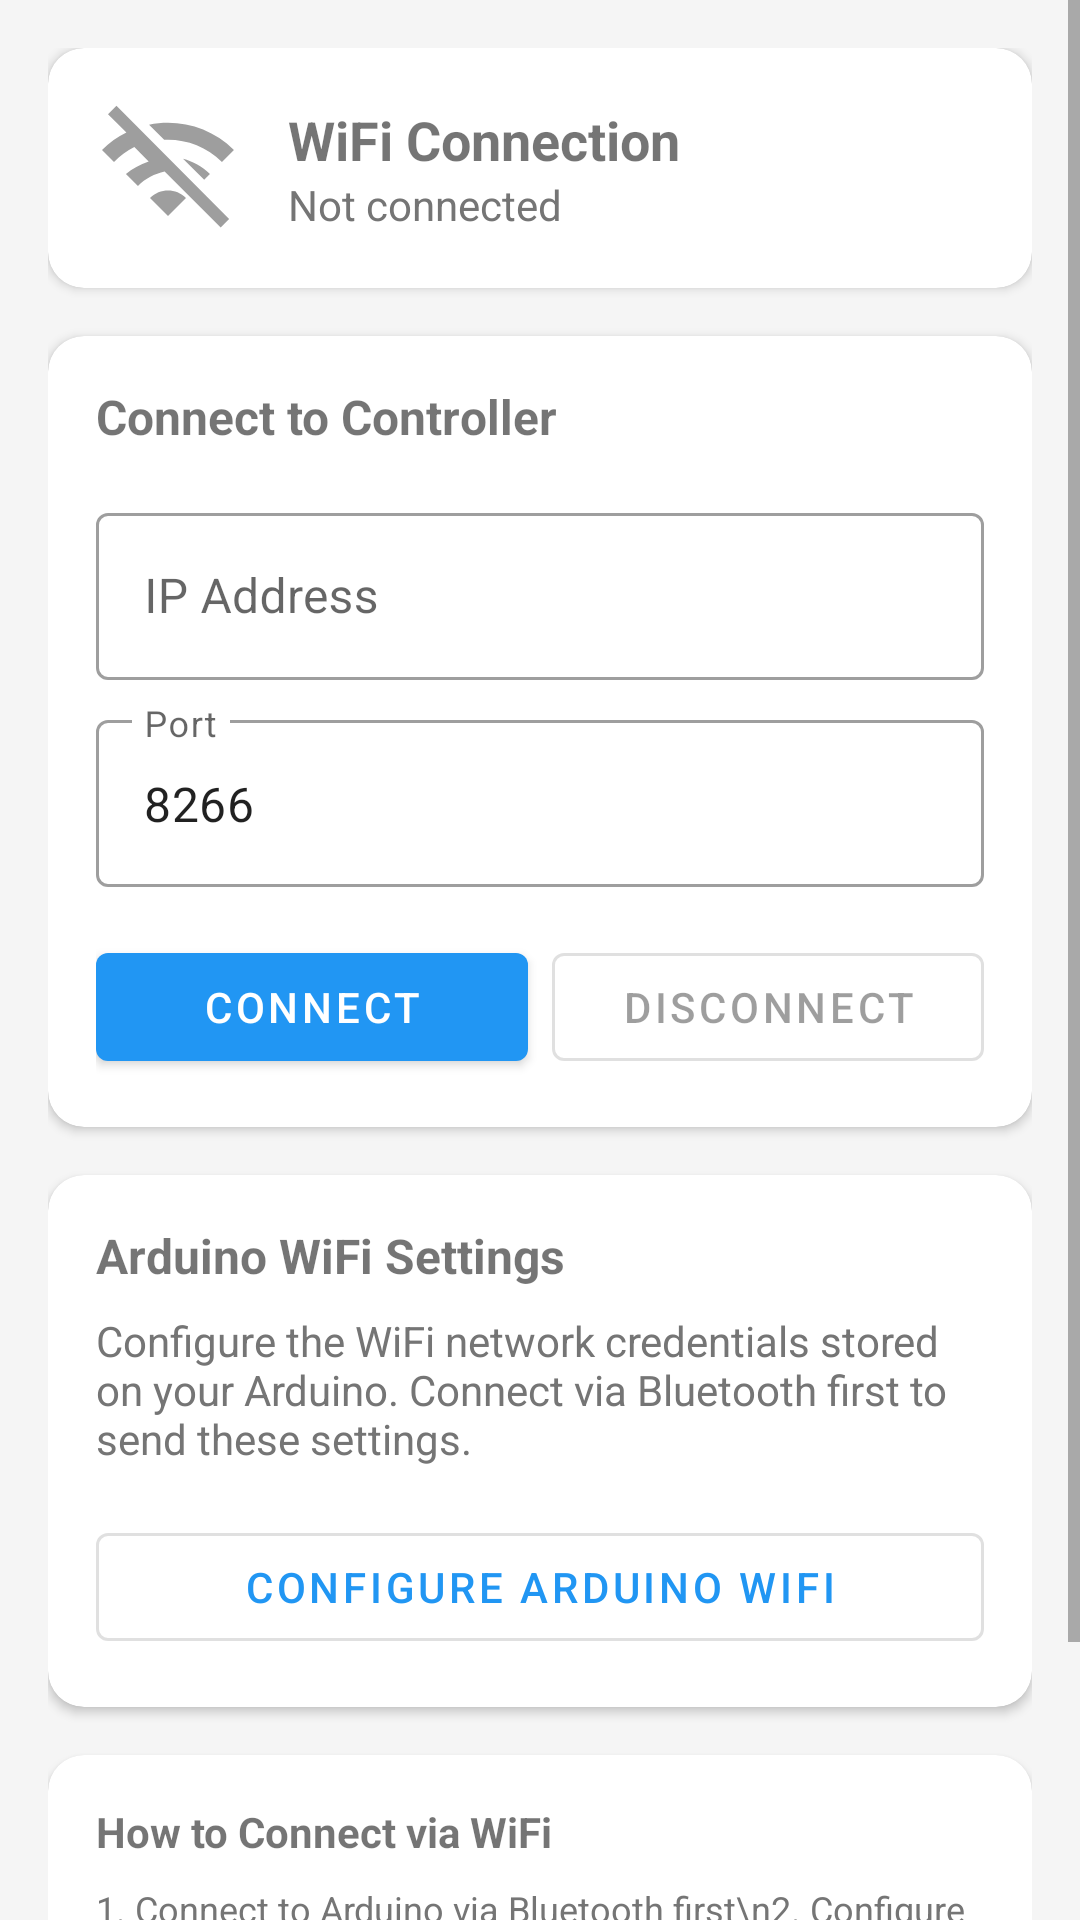

Icons on this 1080px×1920px Android screen, each with its box as (x1, y1, x2, y2):
Connection status: (102, 106, 234, 227)
